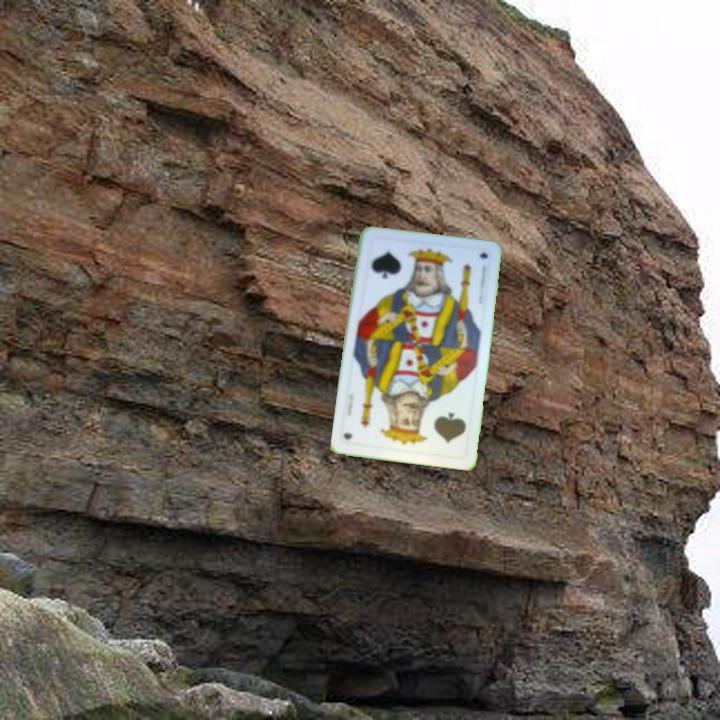s_k.png: (359, 235, 432, 300), (401, 395, 474, 460)
